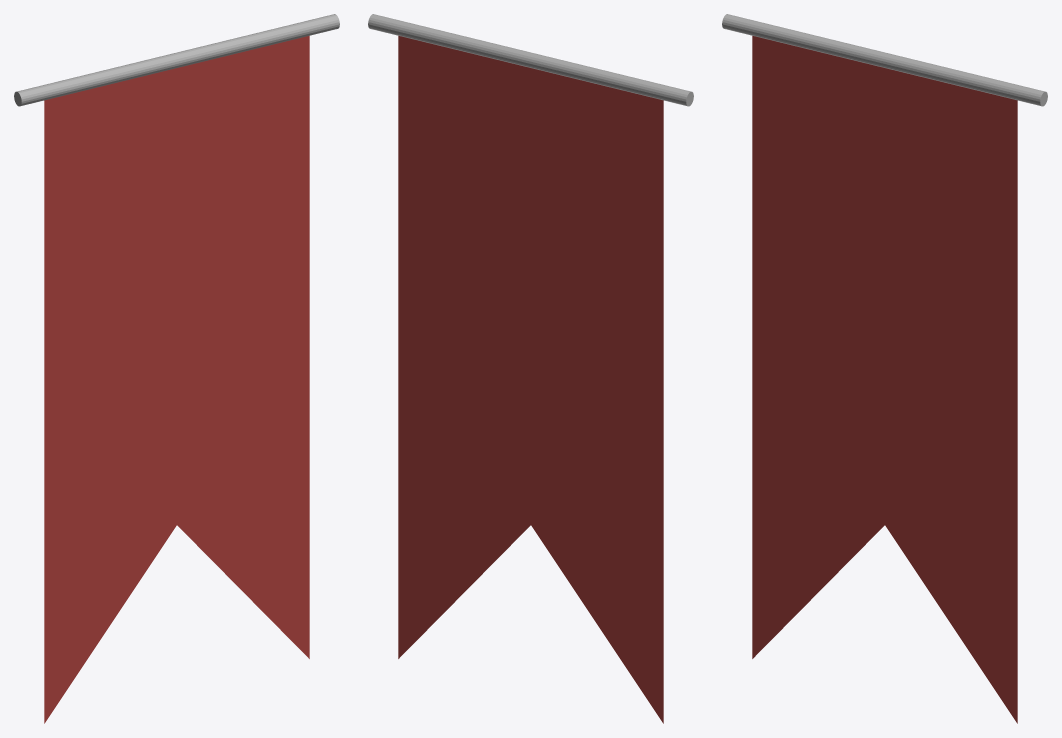
The model's file is Standard.fbx.
The picture shows the model from 3 angles, left to right: view 1: azimuth 30°, elevation 25°; view 2: azimuth 150°, elevation 25°; view 3: azimuth 330°, elevation 25°; orthographic projection.
Visible parts, largest first — view 1: obj_0.001, obj_0.024; view 2: obj_0.001, obj_0.024; view 3: obj_0.001, obj_0.024.
Part boxes in pixels (bbox=[...]): obj_0.001: bbox=[44, 36, 309, 723]; obj_0.024: bbox=[14, 14, 339, 106]; obj_0.001: bbox=[398, 36, 663, 723]; obj_0.024: bbox=[368, 14, 693, 106]; obj_0.001: bbox=[752, 36, 1017, 723]; obj_0.024: bbox=[722, 14, 1047, 106].
Size of the model in its own units: 2400 by 4600 by 100.
